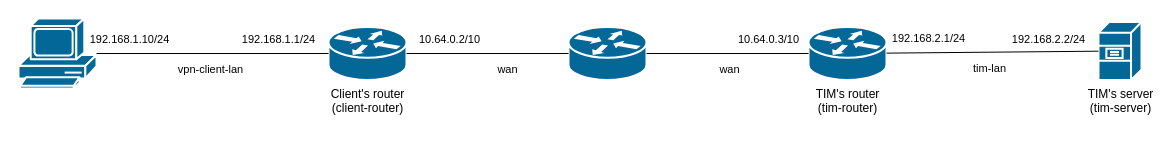
The diagram is 1170 pixels wide and 147 high, and some of its shapes have lost their labels. Here are the shapes that lost their labels. From the top down, the centre of each, then its label:
the point at 57,53: VPN client (vpn-client)
the point at 607,53: ISP (isp) 10.64.0.1/10
